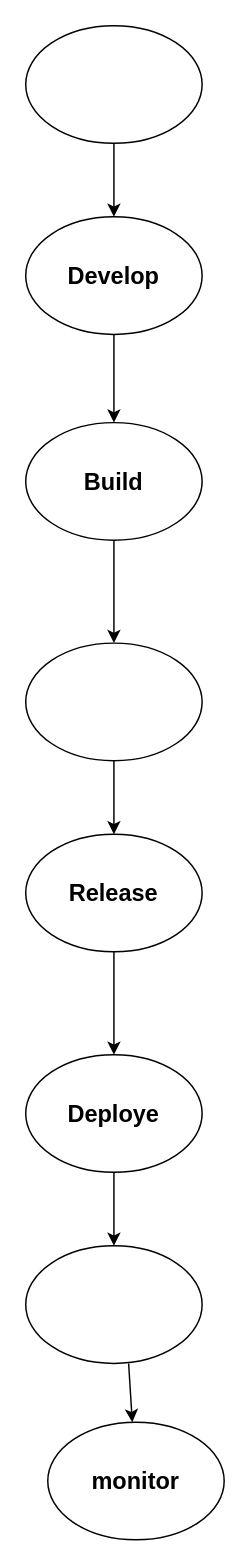
Image size: 250x1566. Some labels were removed from this diagram. Each missing label, with the centre of its shape:
"operate" belongs at point (113, 1303).
"plan" belongs at point (113, 83).
"Test" belongs at point (113, 701).
